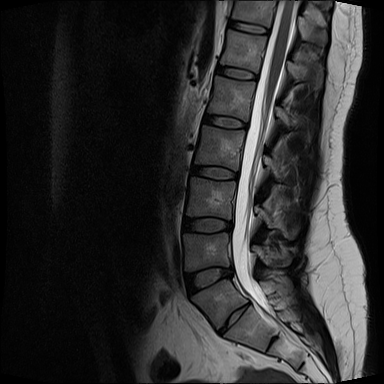Lumbar Disc Bulge (LDB): (180, 260, 240, 302)
Normal IVD: (176, 216, 238, 236), (201, 111, 251, 134), (214, 63, 261, 85), (185, 165, 242, 181), (225, 18, 275, 36)
Spinal Stenosis (SS): (224, 262, 239, 283)
